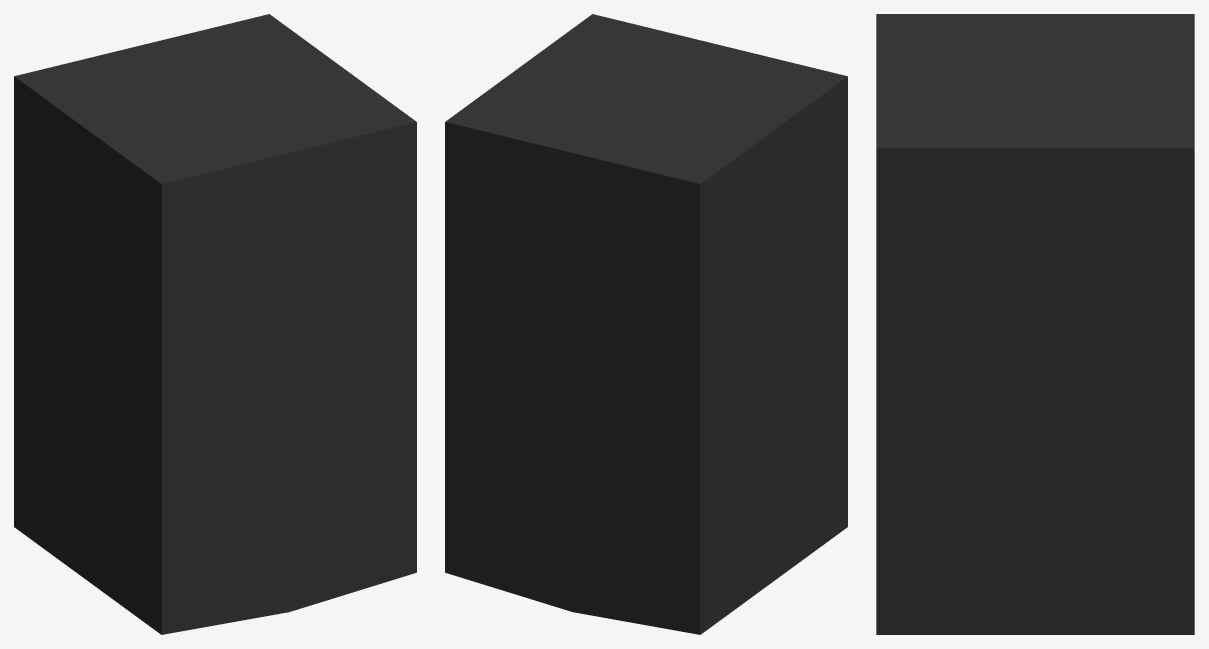
The model's file is dc_metro_roof_o1.obj.
3 views of the same model, side by side, from view 1: azimuth 30°, elevation 25°; view 2: azimuth 150°, elevation 25°; view 3: azimuth 270°, elevation 25° (orthographic). The views are drawn at different scales.
Parts seen in each view (by area): view 1: part1; view 2: part1; view 3: part1.
Part boxes in pixels (left/top/right/bottom): part1: left=14, top=14, right=416, bottom=634; part1: left=445, top=14, right=847, bottom=634; part1: left=876, top=14, right=1194, bottom=634.
Size of the model in its own units: 1 by 1.72 by 1.
Materials: 1 (1 with a texture image).
